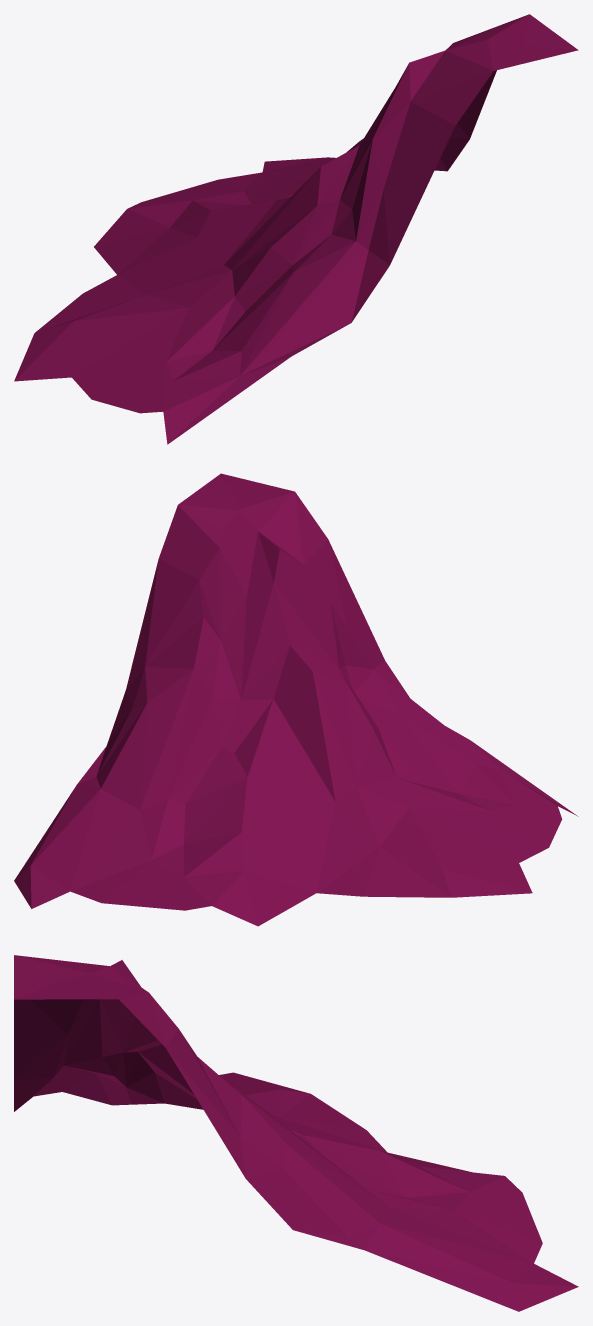
Rendered from 20C_rock_BigWall_01Conner02.fbx.
3 renders of one model, top to bottom at view 1: azimuth 30°, elevation 25°; view 2: azimuth 150°, elevation 25°; view 3: azimuth 270°, elevation 25°, orthographic. The views are drawn at different scales.
Parts seen in each view (by area): view 1: 20C_rock_BigWall_01Conner002; view 2: 20C_rock_BigWall_01Conner002; view 3: 20C_rock_BigWall_01Conner002.
Boxes of the visible parts, x1,y1,x2,y2 form: 20C_rock_BigWall_01Conner002: [14, 14, 578, 444]; 20C_rock_BigWall_01Conner002: [14, 473, 578, 926]; 20C_rock_BigWall_01Conner002: [14, 955, 578, 1311].
Size of the model in its own units: 122 by 74.39 by 122.
